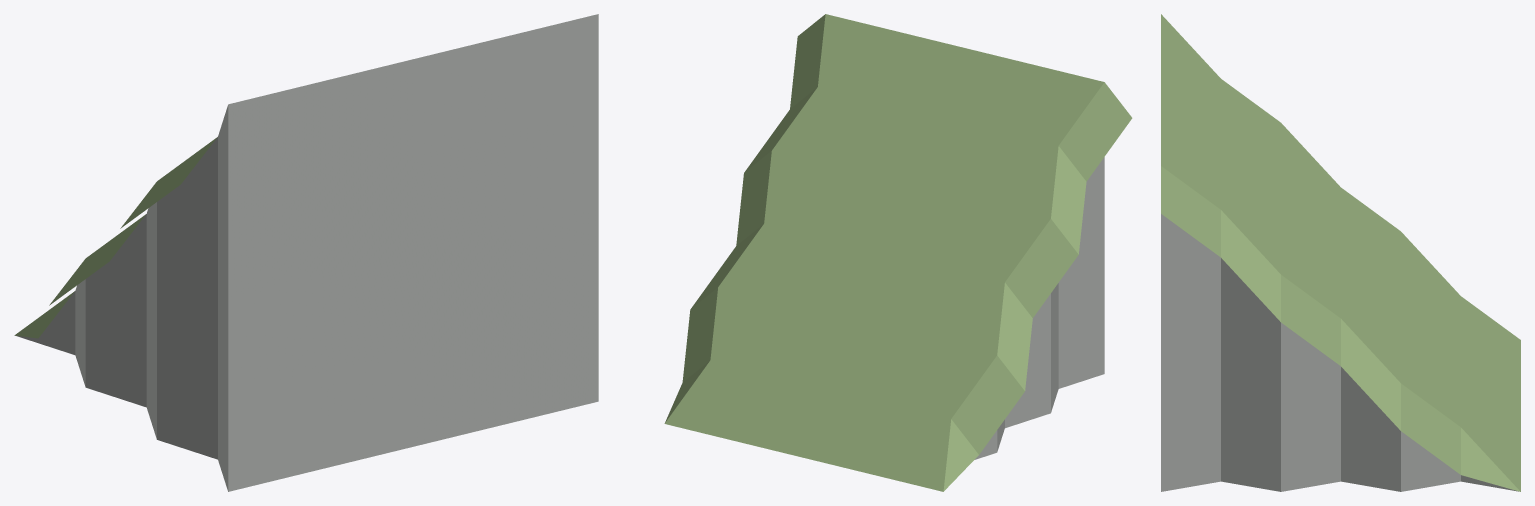
The model's file is srf_cliff_slope.glb.
The picture shows the model from 3 angles, left to right: view 1: azimuth 30°, elevation 25°; view 2: azimuth 150°, elevation 25°; view 3: azimuth 270°, elevation 25°; orthographic projection. The views are drawn at different scales.
Visible parts, largest first — view 1: cliff_blockSlope_stone; view 2: cliff_blockSlope_stone; view 3: cliff_blockSlope_stone.
Part boxes in pixels (x1,y1,x2,y2): cliff_blockSlope_stone: (14,14,598,491); cliff_blockSlope_stone: (664,14,1132,491); cliff_blockSlope_stone: (1161,14,1520,491).
Bounding box in the file's own units: 1.2 × 1 × 1.
